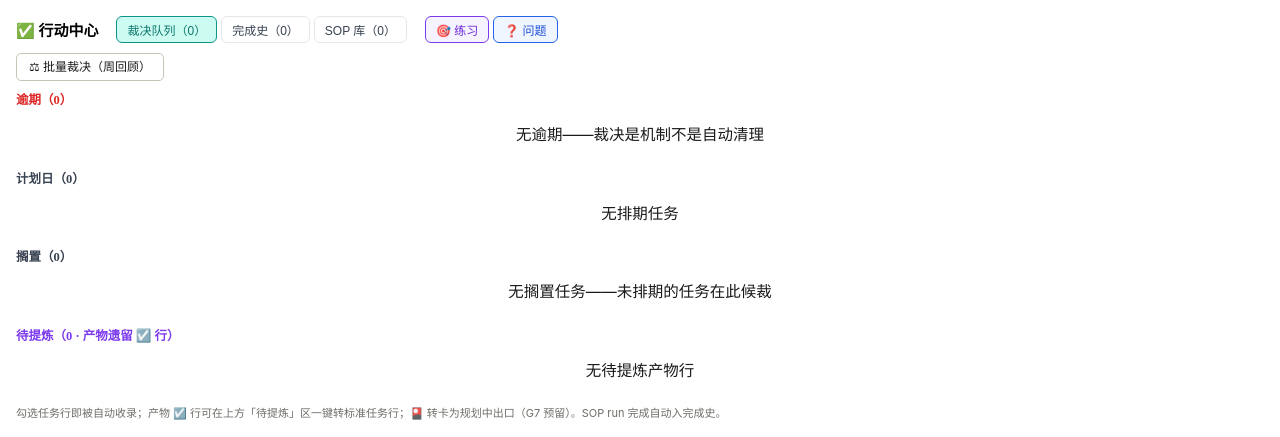
it: ActionCenterPanel 页面化骨架 › 三页签切换：队列空态 / 完成史空态 / SOP 库空态
Expected: the text "无逾期——裁决是机制不是自动清理" is shown, [516, 120, 764, 150]
Click the button "完成史（0）". click: (266, 30)
box: [221, 16, 310, 43]
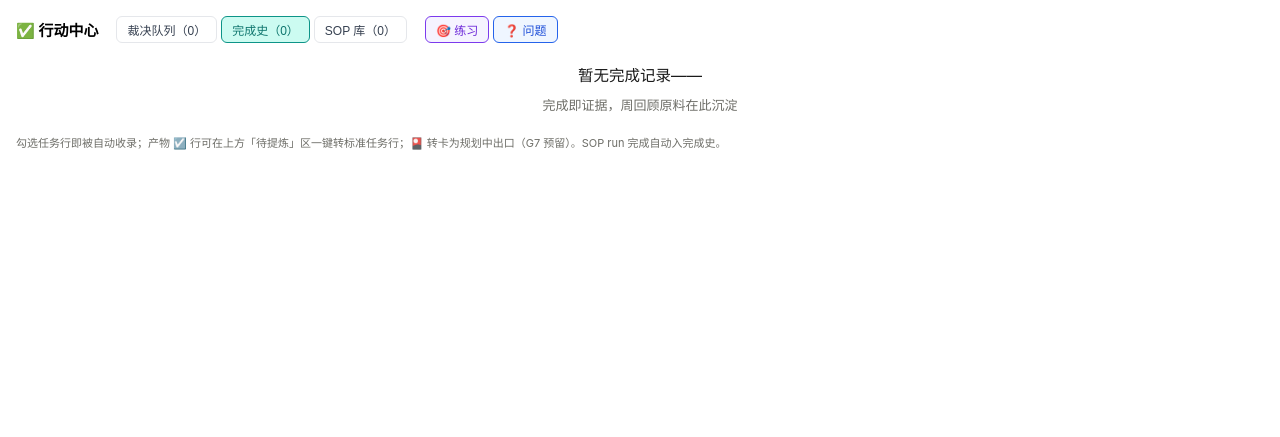
Expected: the text "暂无完成记录——" is shown, [578, 61, 702, 90]
Click the button "SOP 库（0）". click: (360, 30)
box: [314, 16, 407, 43]
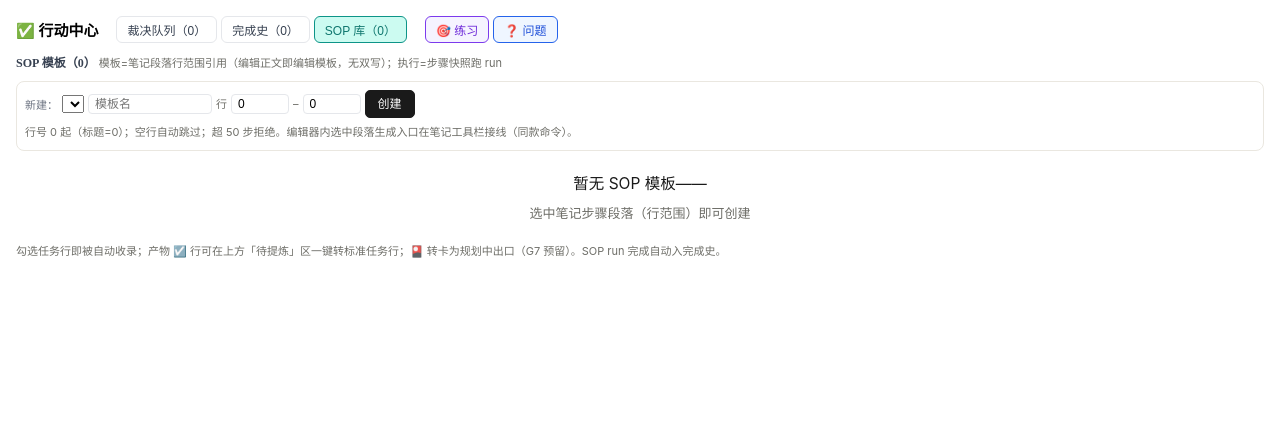
Expected: the text "暂无 SOP 模板——" is shown, [573, 169, 707, 198]
// 回到队列页签不抛错（三区共享状态）
Click the button "裁决队列（0）". click: (167, 30)
box: [116, 16, 217, 43]
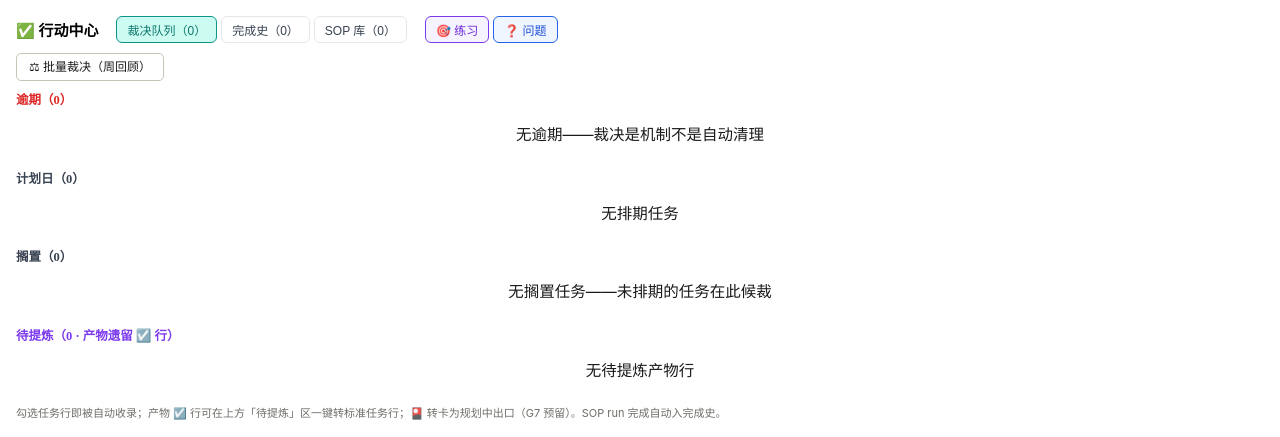
Expected: the text "无逾期——裁决是机制不是自动清理" is shown, [516, 120, 764, 150]
